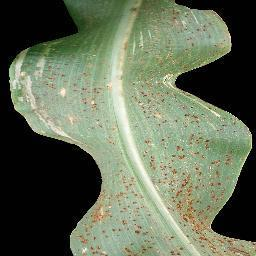Corn_Common_Rust: (130, 74, 254, 167), (6, 39, 112, 121), (161, 167, 256, 256), (121, 0, 235, 74), (99, 168, 136, 256), (67, 197, 100, 256), (135, 191, 161, 256), (88, 120, 119, 150)
